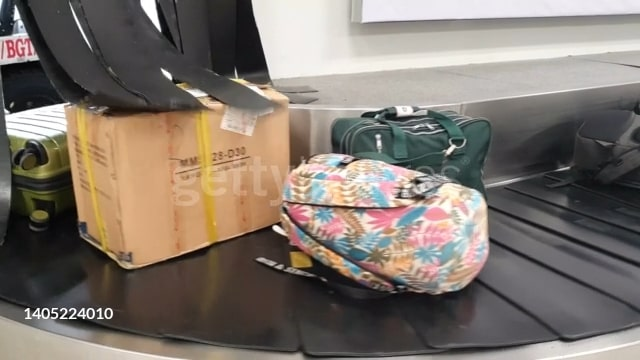baggage: (68, 86, 291, 265), (276, 158, 483, 302), (324, 106, 497, 221)
